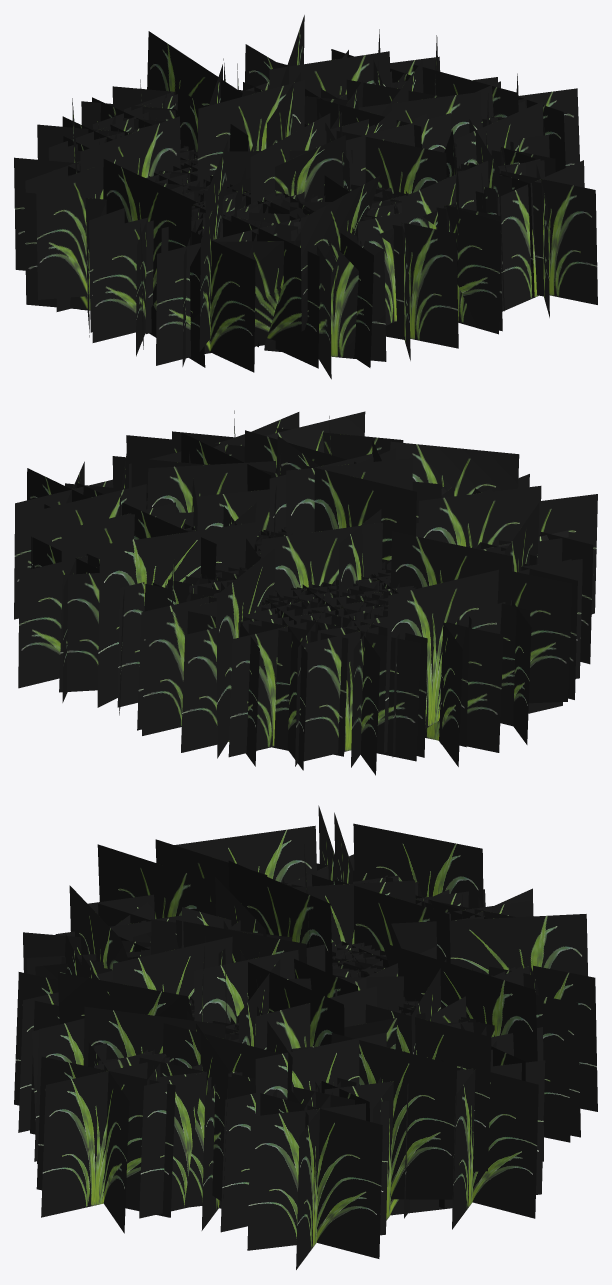
File: Grass Model 01.glb
3 renders of one model, top to bottom at view 1: azimuth 30°, elevation 25°; view 2: azimuth 150°, elevation 25°; view 3: azimuth 270°, elevation 25°, orthographic. The views are drawn at different scales.
Visible parts, largest first — view 1: Object_2; view 2: Object_2; view 3: Object_2.
Part boxes in pixels (bbox=[...]): Object_2: bbox=[14, 15, 597, 379]; Object_2: bbox=[14, 410, 597, 775]; Object_2: bbox=[14, 805, 597, 1269].
Size of the model in its own units: 0.3633 by 0.1229 by 0.2942.
Materials: 1 (1 with a texture image).
